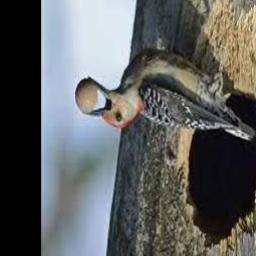Woodpecker: (82, 48, 256, 143)
